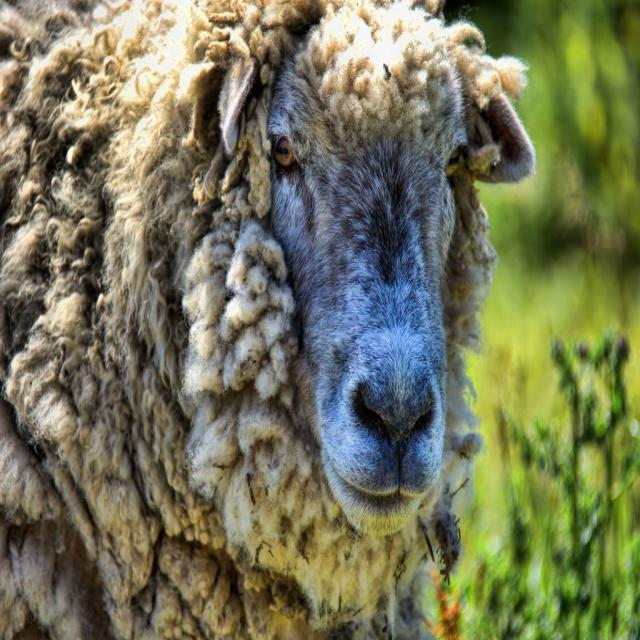Sheep: (0, 0, 534, 639)
